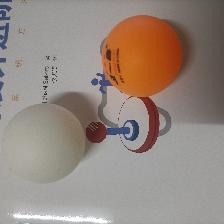WhiteBall: (4, 103, 85, 182)
YellowBall: (102, 15, 183, 96)
